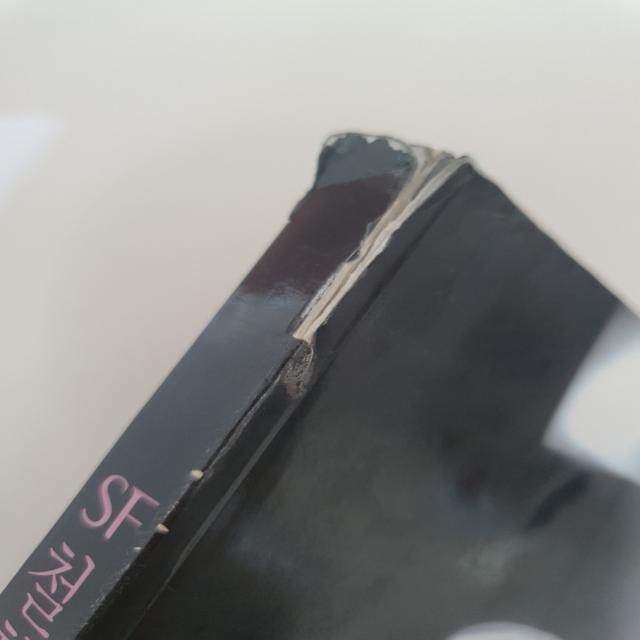Ripped: (282, 125, 481, 403)
Wornout: (74, 561, 134, 634), (128, 506, 179, 561), (180, 452, 222, 497)
